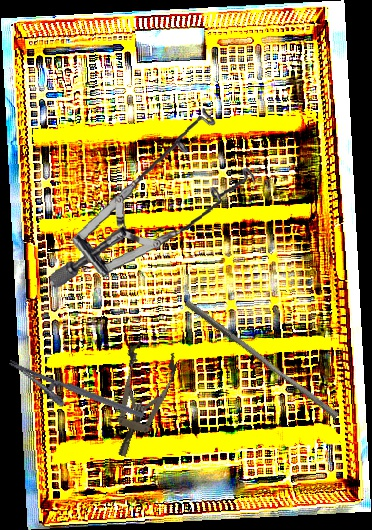Needle Holder: (1, 358, 145, 438)
Pusher: (179, 299, 344, 420)
Speculum: (35, 102, 264, 290), (96, 337, 182, 464)
